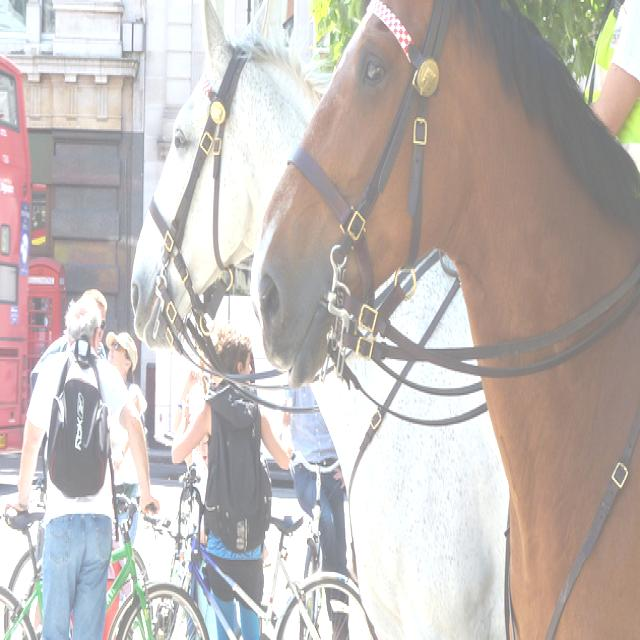Vehicle: (0, 53, 63, 461)
